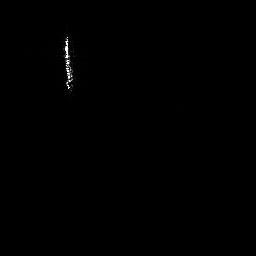ship: (63, 33, 75, 93)
